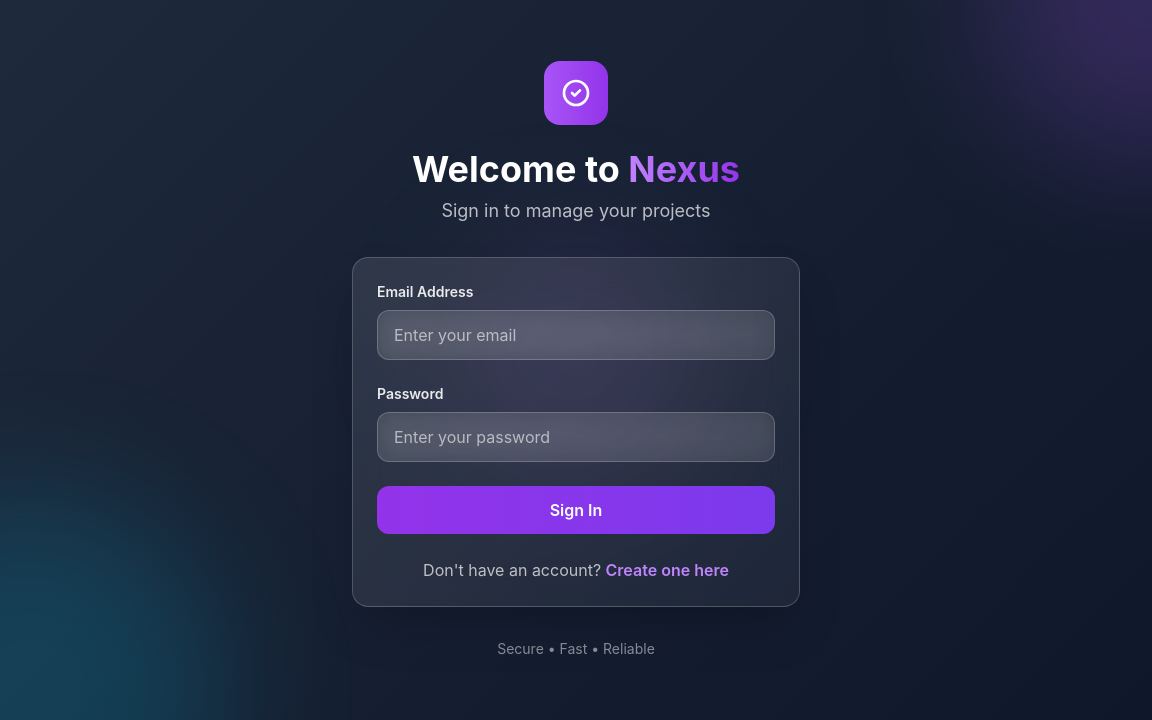
Scenario: Login Component › validates password length
The width and height of the screenshot is (1152, 720).
Type "test@example.com" into the field labelled "Email Address" at [576, 335], box x1=377 y1=310 x2=775 y2=360
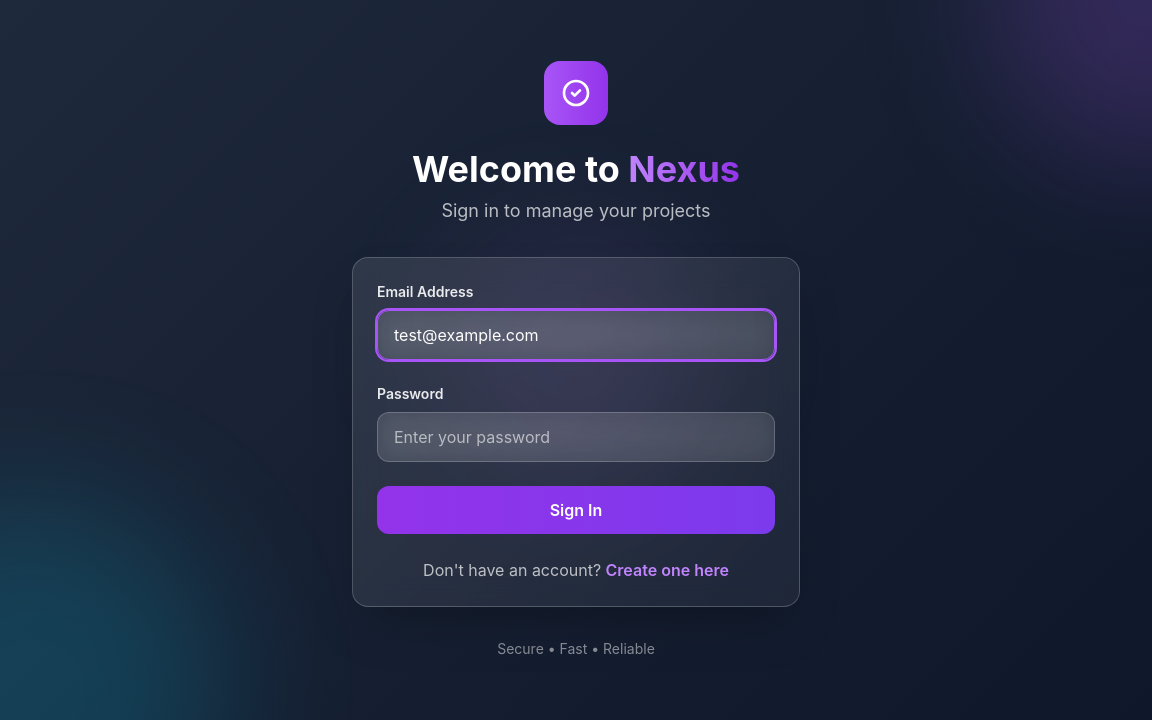
Type "12345" into the password field labelled "Password" at [576, 437], box x1=377 y1=412 x2=775 y2=462
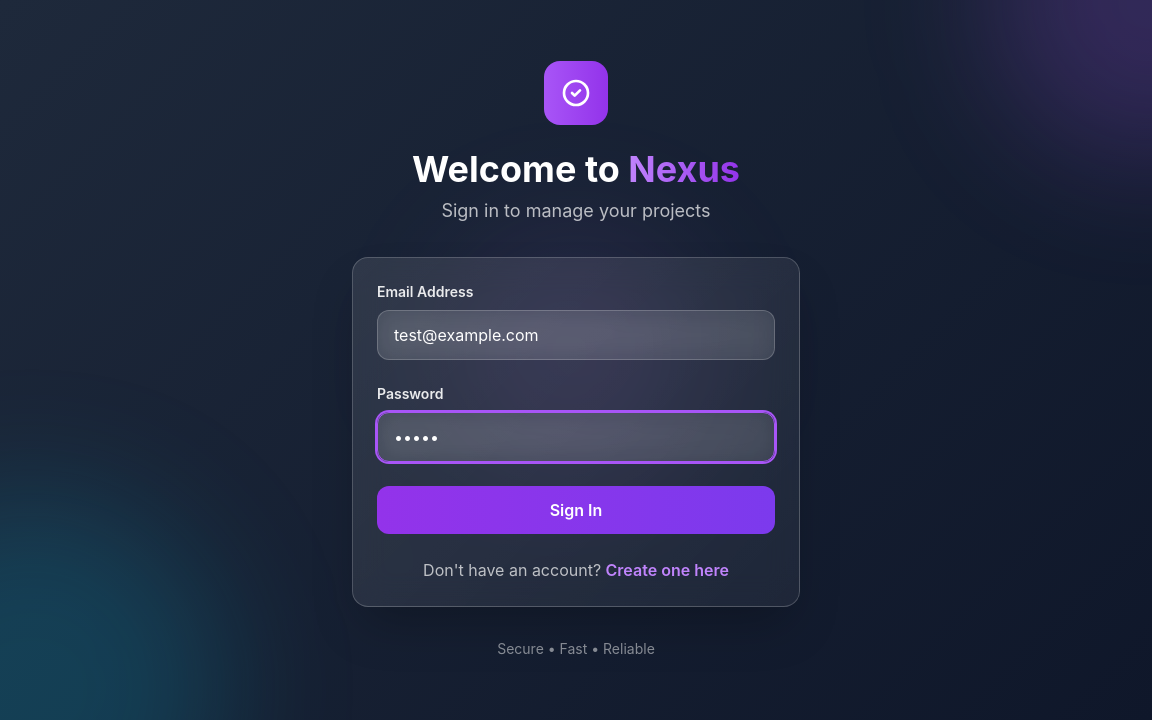
Click the button "Sign In" at [576, 510], box x1=377 y1=486 x2=775 y2=534
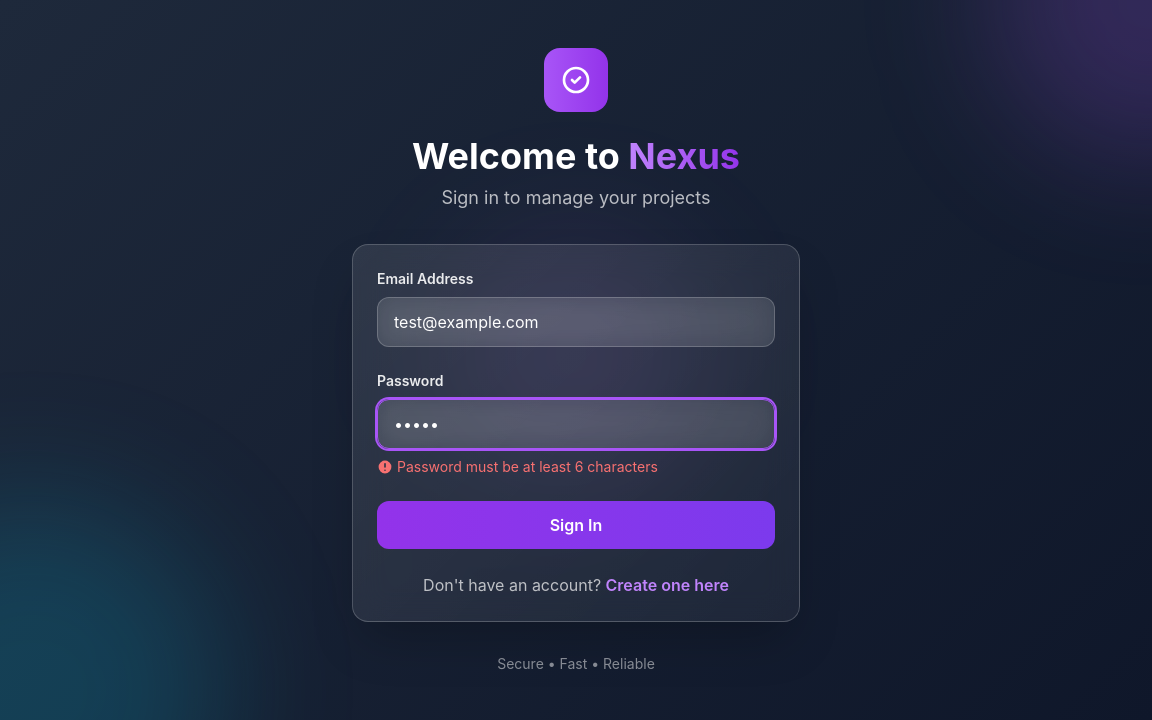
Now the text "Password must be at least 6 characters" is shown, box x1=377 y1=458 x2=658 y2=475
